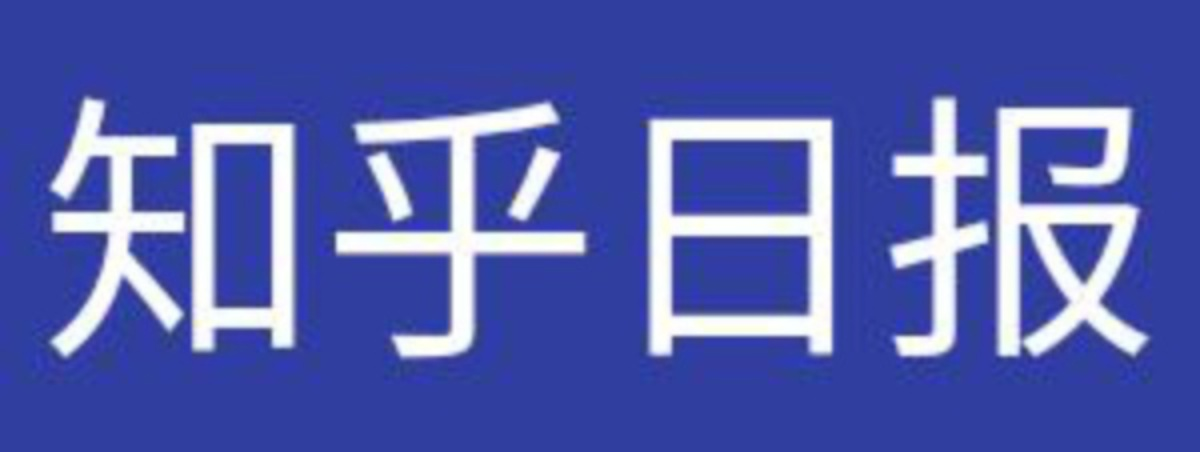TextView: (1, 1, 1199, 451)
